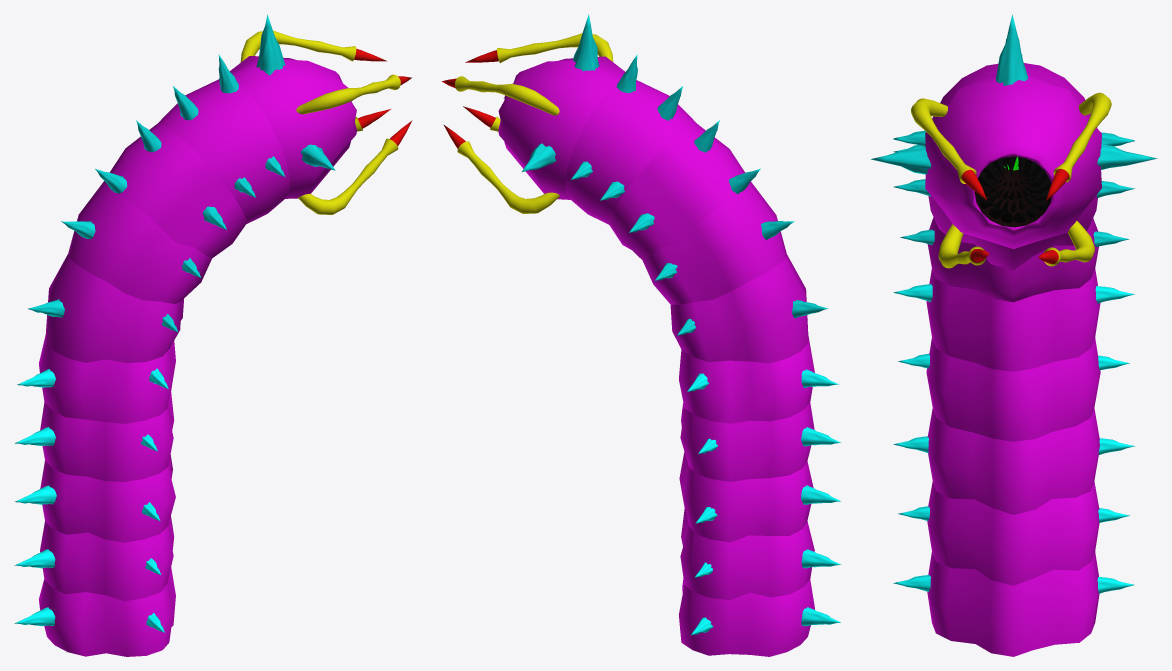
Rendered from Worm.fbx.
3 renders of one model, left to right at view 1: azimuth 30°, elevation 25°; view 2: azimuth 150°, elevation 25°; view 3: azimuth 270°, elevation 25°, orthographic. The views are drawn at different scales.
Visible parts, largest first — view 1: Finished_WormHead_Combined, Finished_WormBody_Combined; view 2: Finished_WormHead_Combined, Finished_WormBody_Combined; view 3: Finished_WormBody_Combined, Finished_WormHead_Combined.
Boxes of the visible parts, bbox=[...] form: Finished_WormHead_Combined: bbox=[28, 14, 412, 362]; Finished_WormBody_Combined: bbox=[14, 334, 175, 656]; Finished_WormHead_Combined: bbox=[442, 14, 828, 363]; Finished_WormBody_Combined: bbox=[679, 336, 841, 656]; Finished_WormBody_Combined: bbox=[893, 268, 1134, 656]; Finished_WormHead_Combined: bbox=[871, 14, 1157, 302].
Size of the model in its own units: 3.35 by 4.77 by 1.78.
